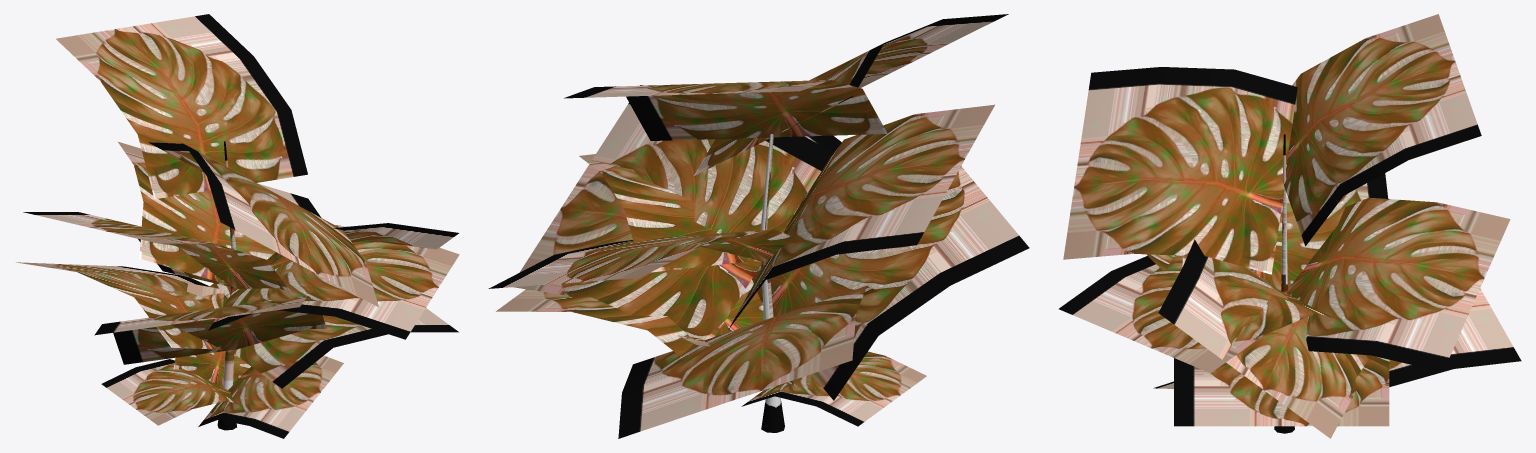
The model's file is plante_1_2.FBX.
The picture shows the model from 3 angles, left to right: view 1: azimuth 30°, elevation 25°; view 2: azimuth 150°, elevation 25°; view 3: azimuth 270°, elevation 25°; orthographic projection. The views are drawn at different scales.
Parts seen in each view (by area): view 1: Plane098; view 2: Plane098; view 3: Plane098.
Boxes of the visible parts, bbox=[...] form: Plane098: bbox=[16, 14, 459, 438]; Plane098: bbox=[488, 14, 1029, 438]; Plane098: bbox=[1059, 14, 1521, 438].
Size of the model in its own units: 250 by 231 by 265.
Materials: 1 (1 with a texture image).
